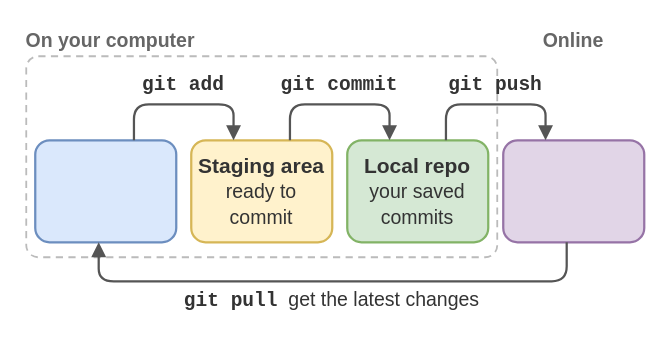
Some shapes in this 672 by 339 pixel diagram are drawn without their labels. Here are the shapes that lost their labels. From the top down, the centre of each, then its label:
the point at 105,190: Your files what you edit
the point at 573,190: GitHub the shared copy online
